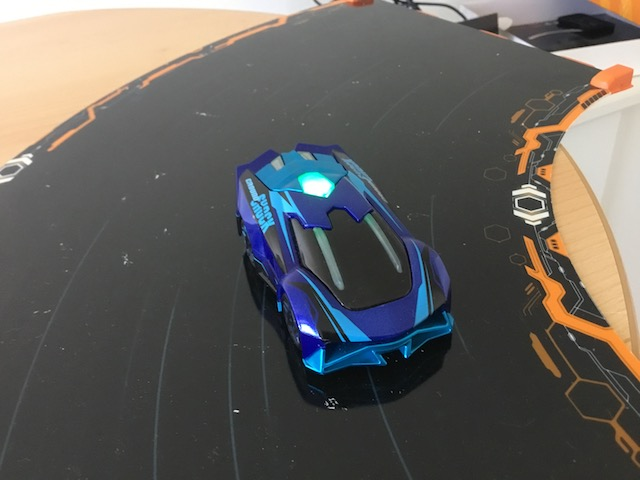car-blue: (230, 138, 460, 385)
